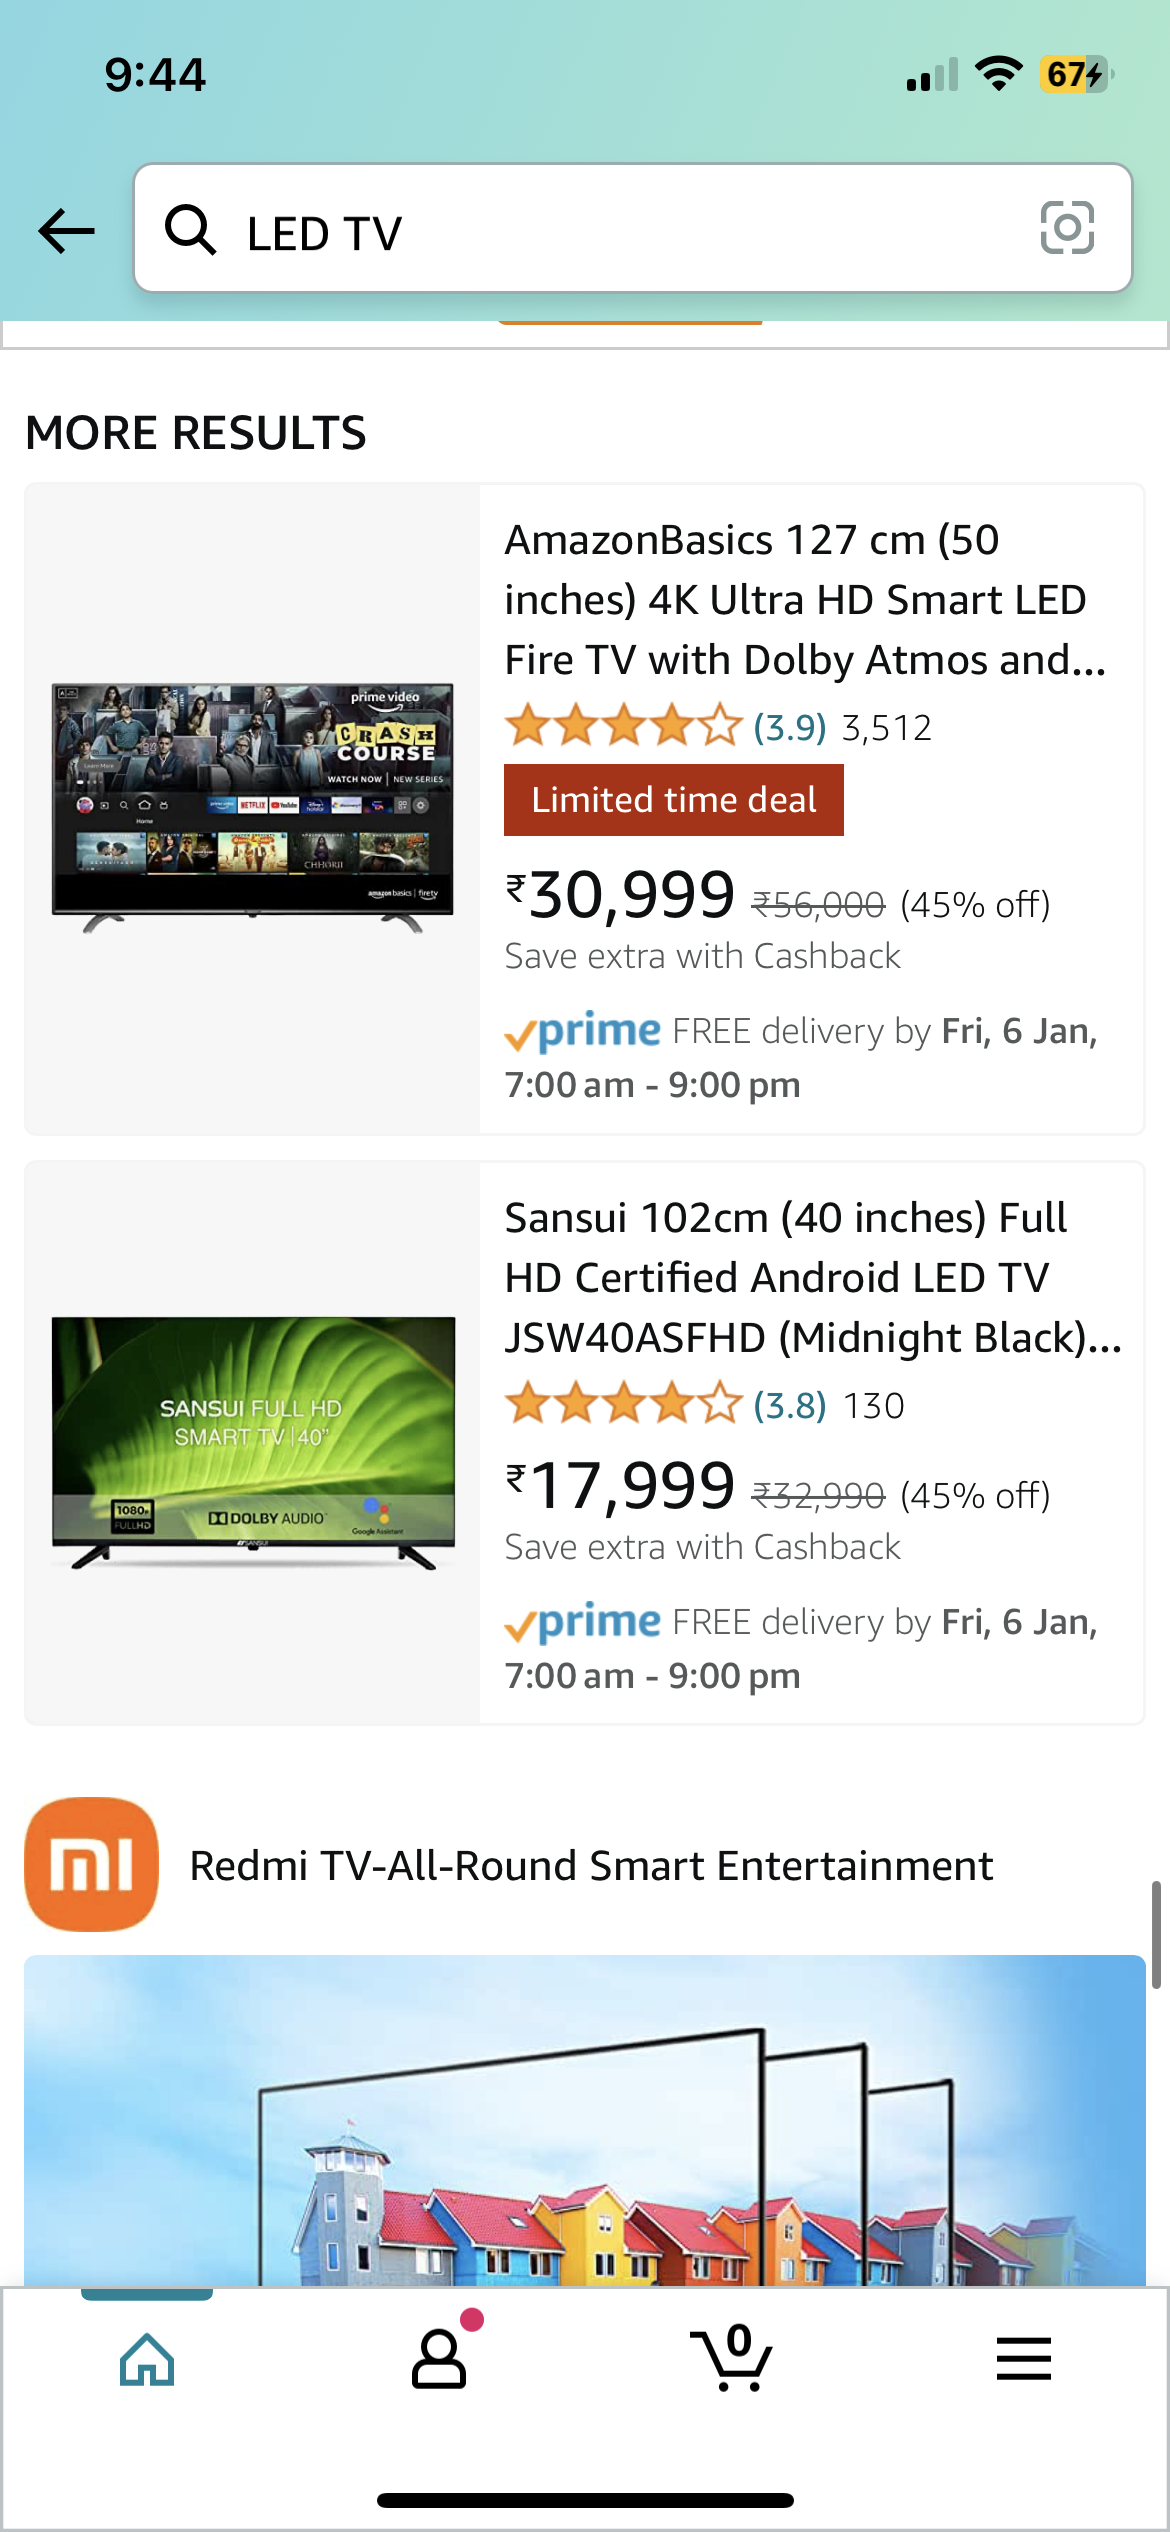LEDTV: (47, 685, 466, 945), (47, 1314, 458, 1578)
